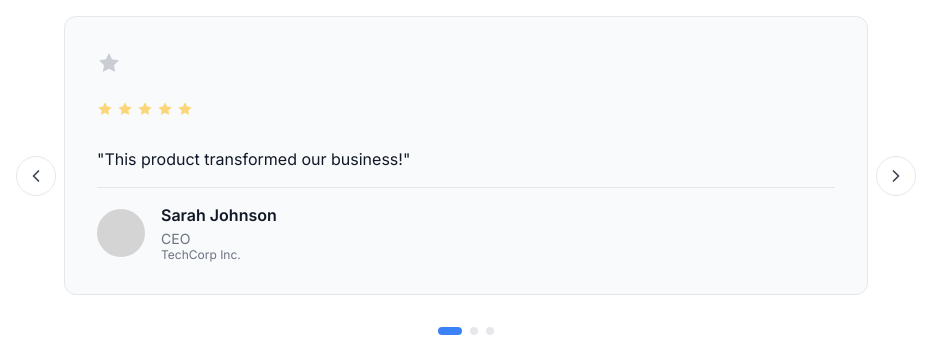
Test: Testimonial Component › Carousel Navigation › should navigate to next testimonial
Step 1. Click the button with test id "testimonial-next" → (896, 176), box [876, 156, 916, 196]
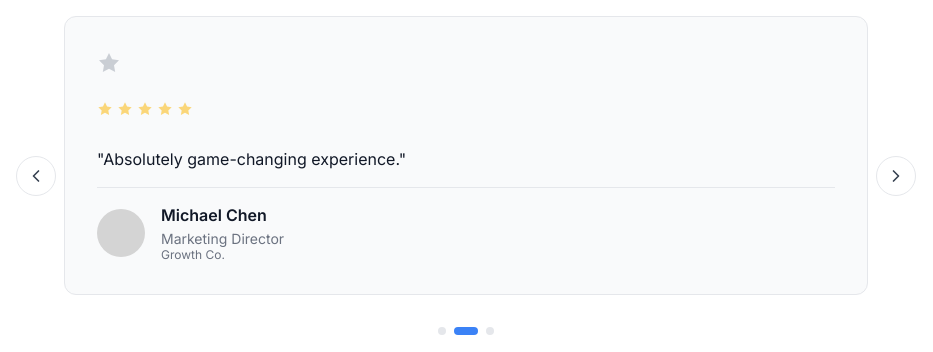
Now the text "\"Absolutely game-changing experience.\"" is shown, box [97, 149, 406, 169]
